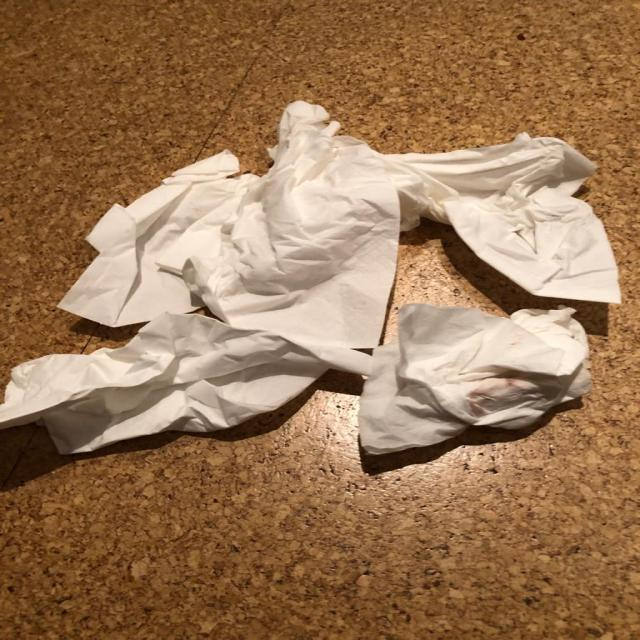kitchen paper: (150, 102, 408, 350), (0, 306, 373, 462), (54, 126, 279, 334), (390, 125, 625, 303), (358, 306, 604, 461)
